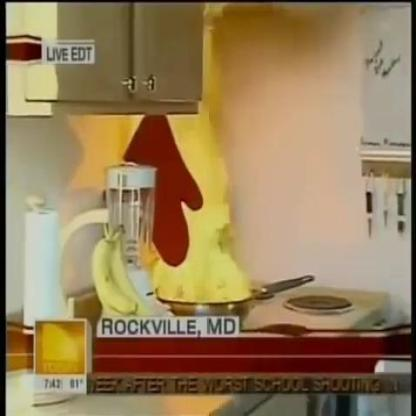fire: (129, 114, 260, 301)
